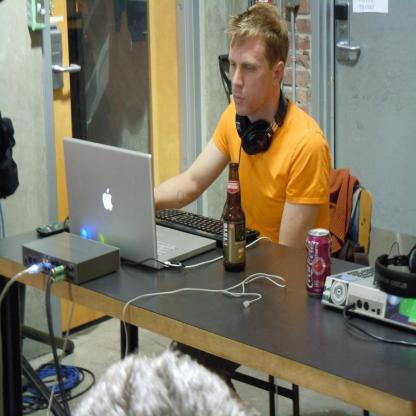board: (71, 138, 228, 282), (224, 160, 242, 271), (303, 229, 329, 292)
